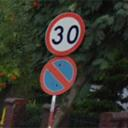speed_limit_30: (46, 12, 86, 56)
